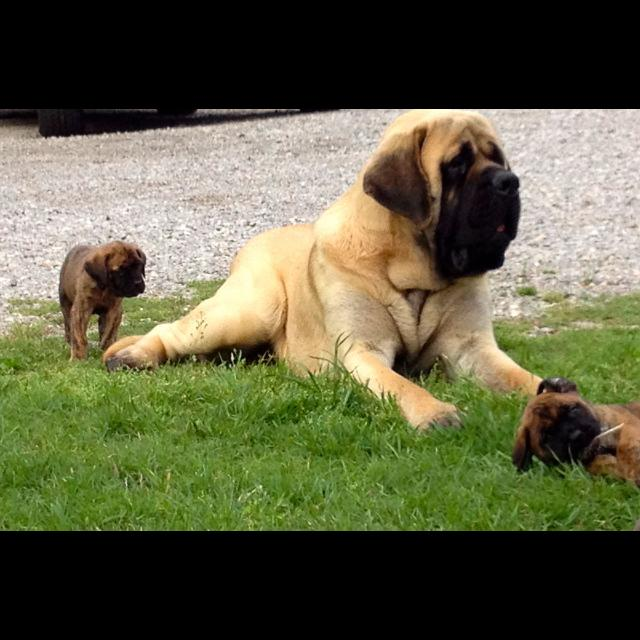mastiff: (102, 111, 567, 435), (512, 378, 640, 490), (59, 241, 148, 363)
